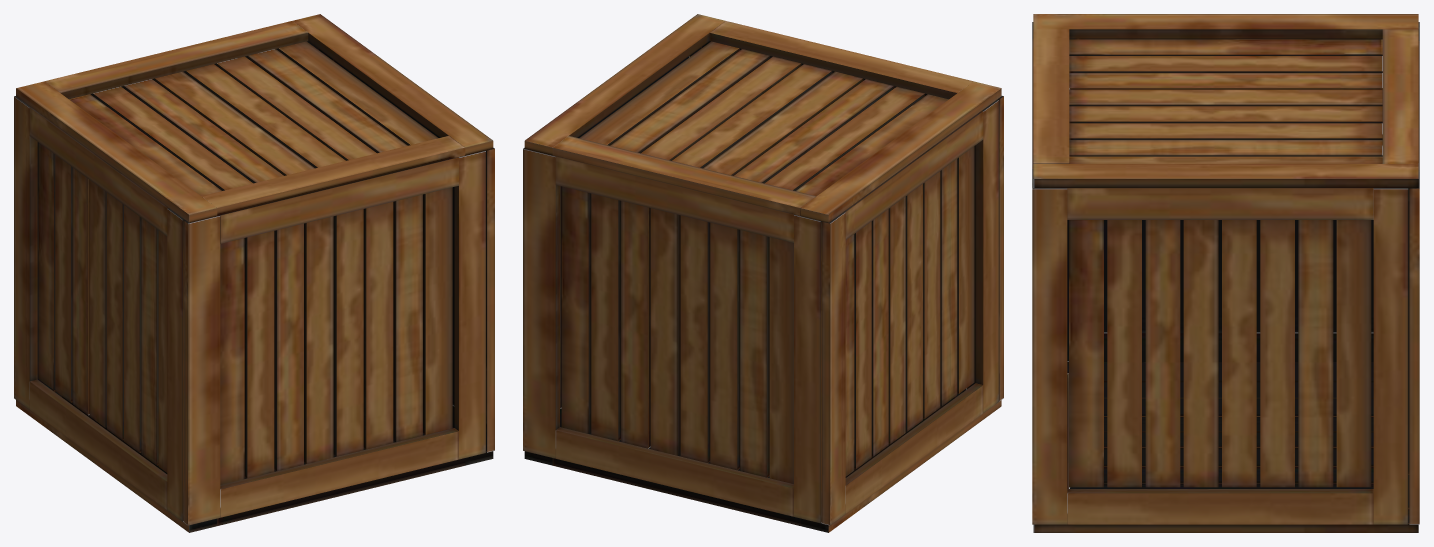
Rendered from crate_crate_2.glb.
3 views of the same model, side by side, from view 1: azimuth 30°, elevation 25°; view 2: azimuth 150°, elevation 25°; view 3: azimuth 270°, elevation 25° (orthographic). The views are drawn at different scales.
Parts seen in each view (by area): view 1: Cube.001_Cube.012; view 2: Cube.001_Cube.012; view 3: Cube.001_Cube.012.
Boxes of the visible parts, x1,y1,x2,y2 form: Cube.001_Cube.012: (14,14,494,532); Cube.001_Cube.012: (523,14,1003,532); Cube.001_Cube.012: (1032,14,1419,532).
Bounding box in the file's own units: 0.6 × 0.594 × 0.589.
Materials: 1 (1 with a texture image).
